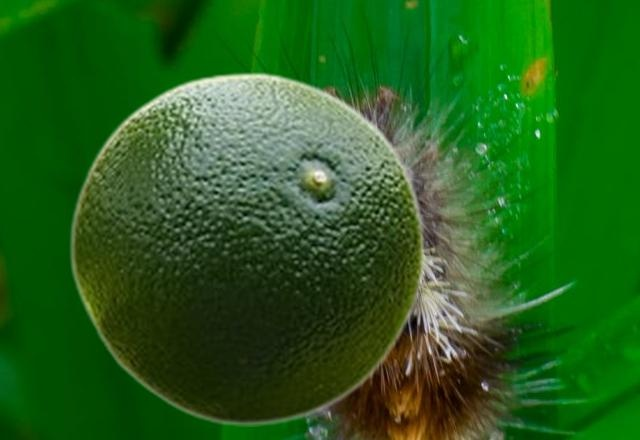calamansi: (68, 71, 425, 425)
